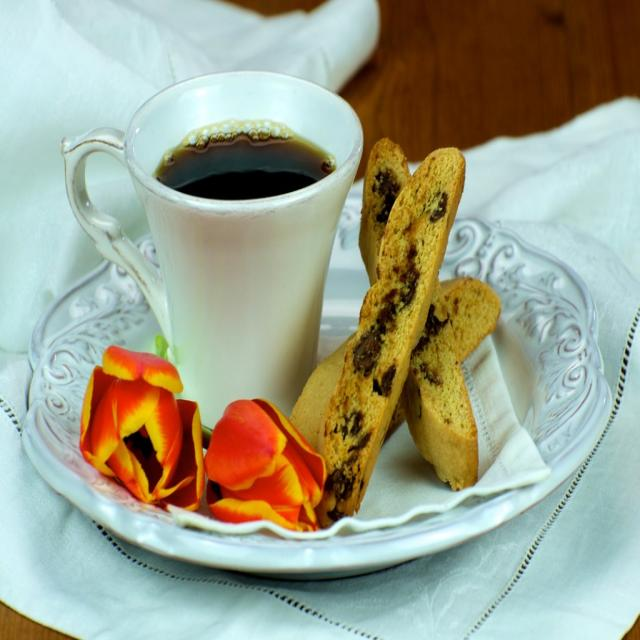Tea: (151, 118, 336, 200)
